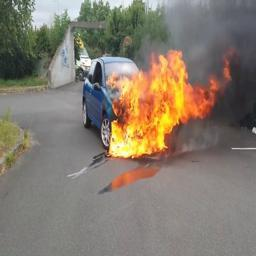fire: (108, 50, 236, 158)
